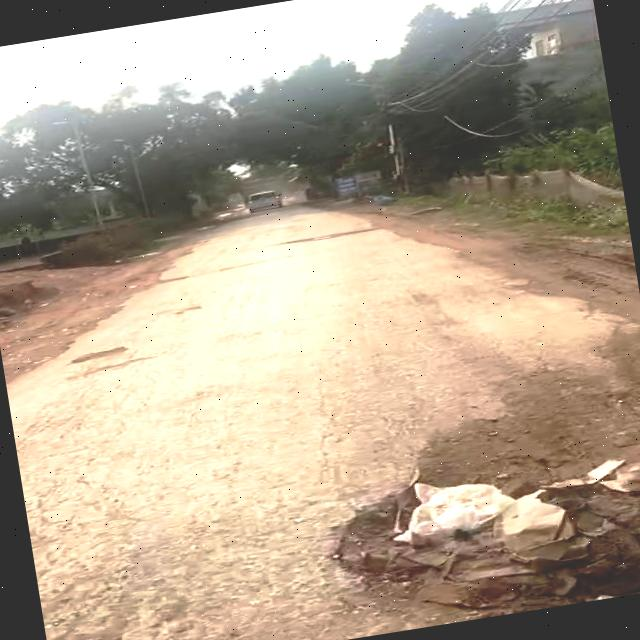pothole: (327, 442, 640, 639)
